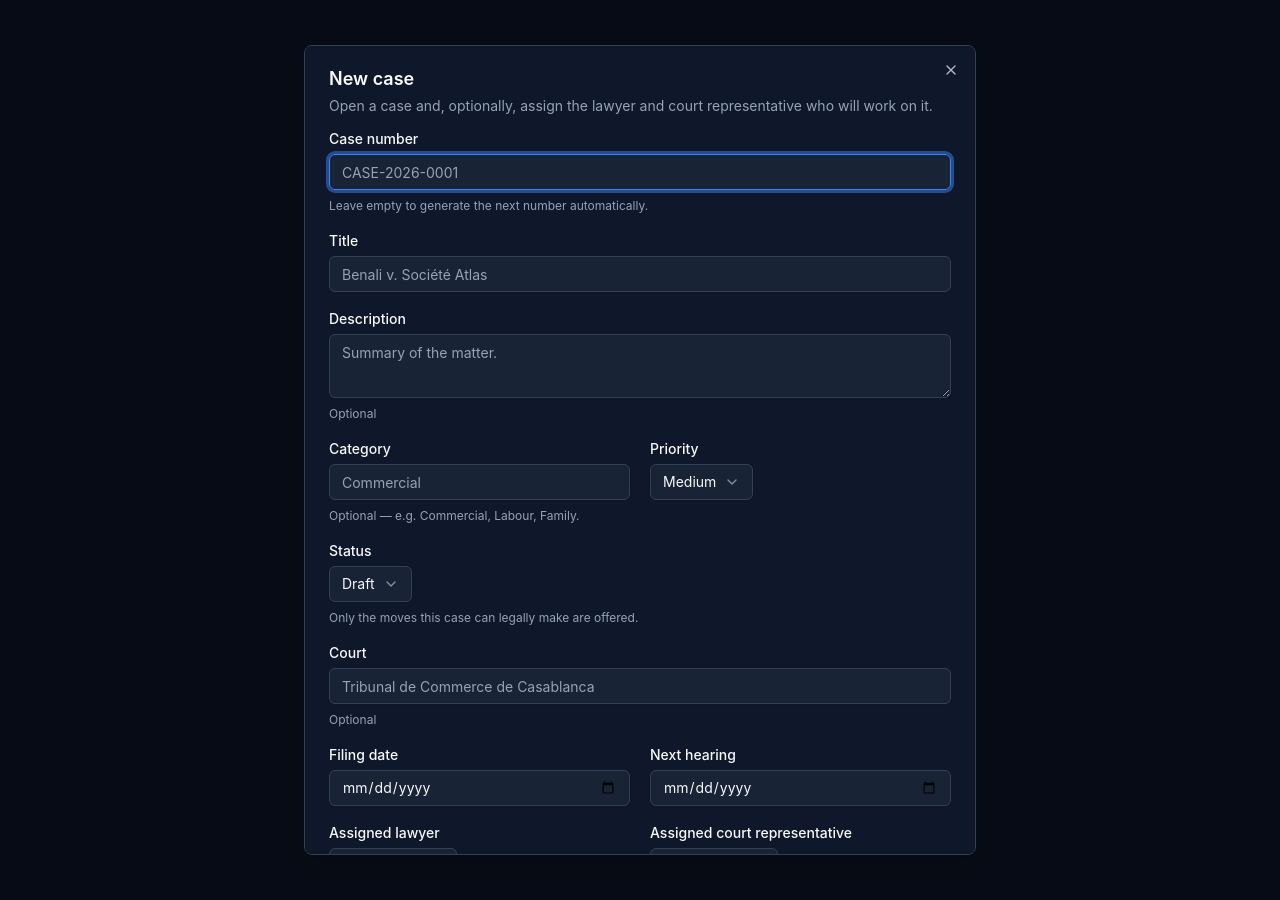
Scenario: CreateCaseDialog › maps a server field error back onto its input
The image size is (1280, 900).
Type "Benali v. Atlas" into the field labelled "Title" at (640, 274), box [329,256,951,292]
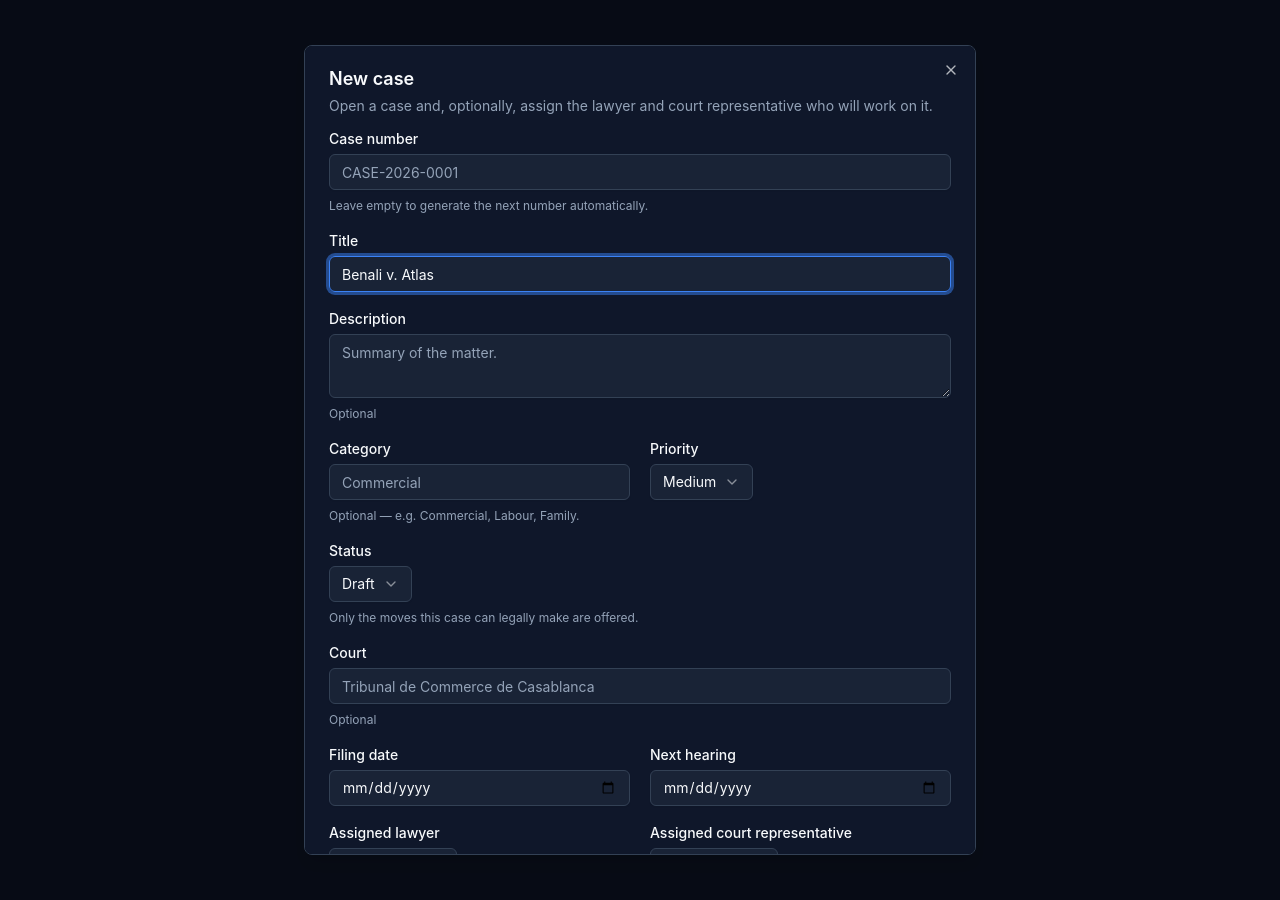
Type "TC/2026/44" into the field labelled "Case number" at (640, 172), box [329,154,951,190]
(page scrolled)
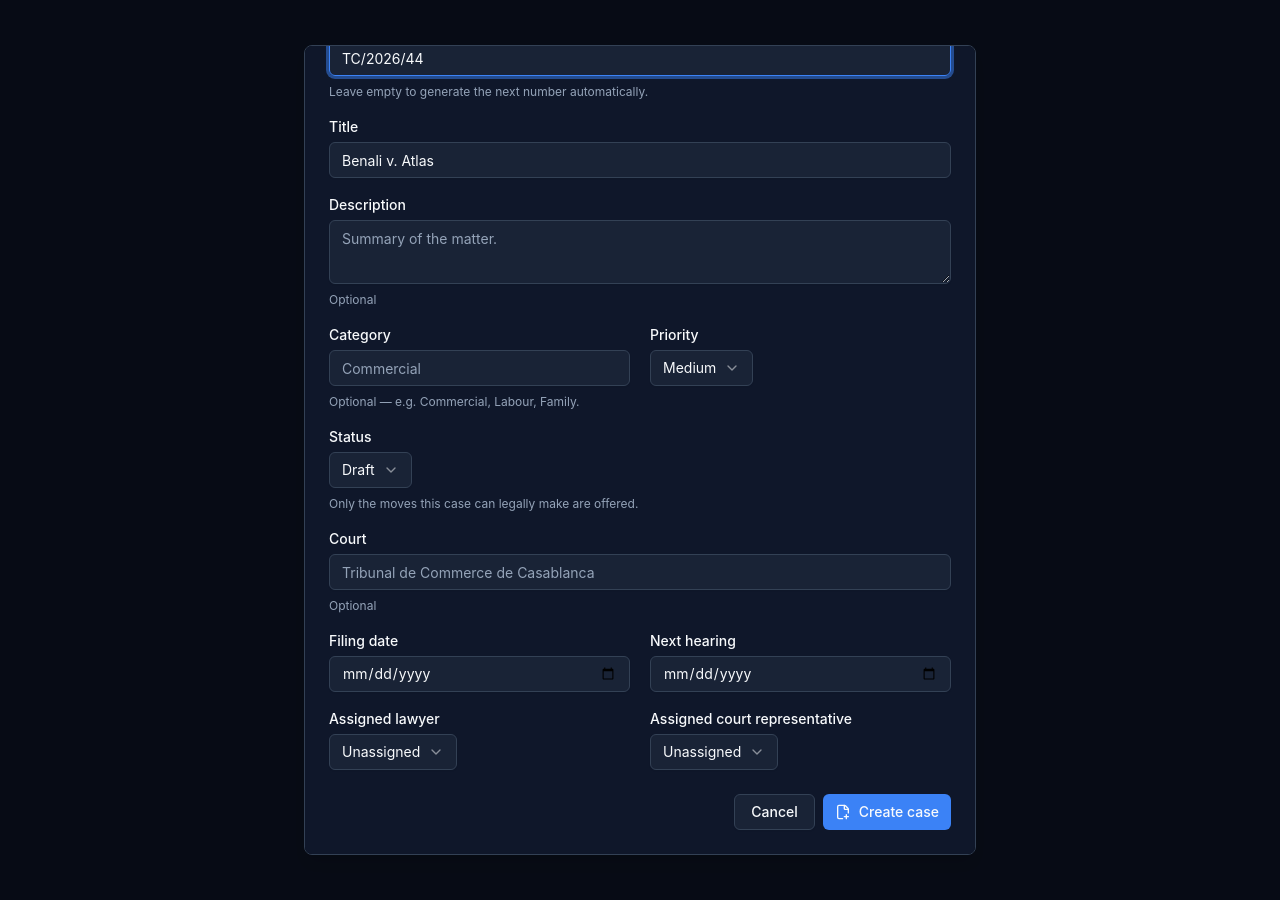
Click the button "Create case" at (887, 812), box [823,794,951,830]
(page scrolled)
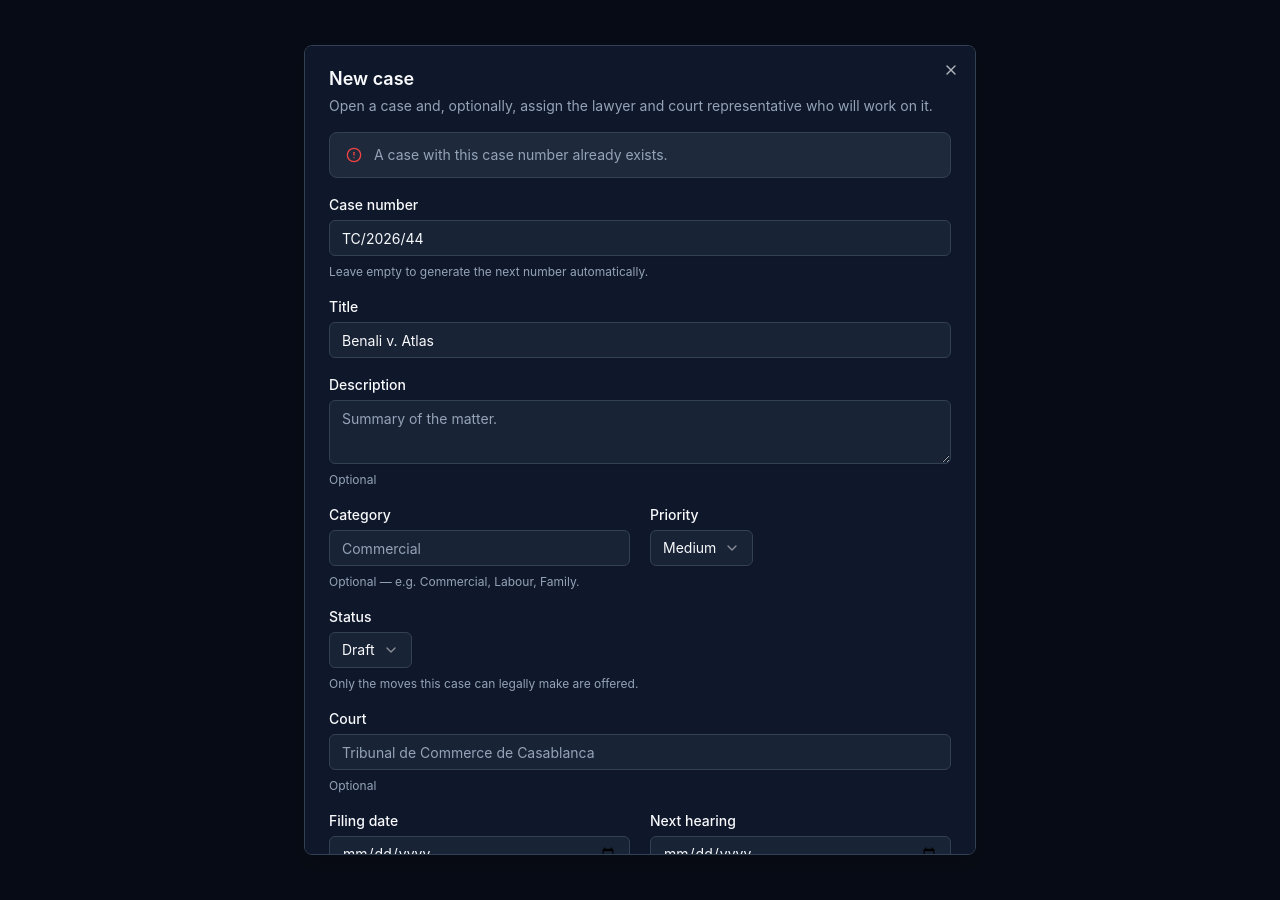
Check: the text "A case with this case number already exists." is shown, box [374,146,668,163]
